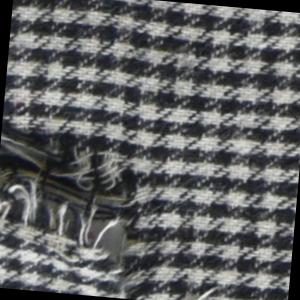Damage: (1, 117, 167, 300), (188, 279, 227, 300)
